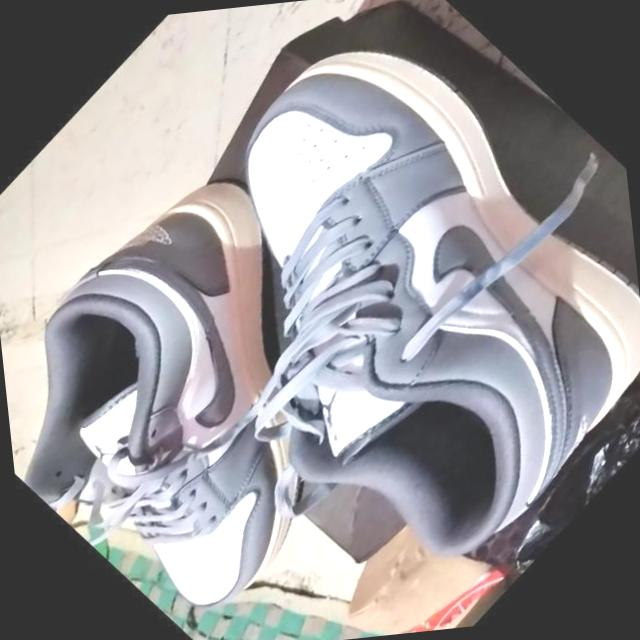nike_fake_jordan: (57, 0, 640, 640), (0, 118, 477, 640)
